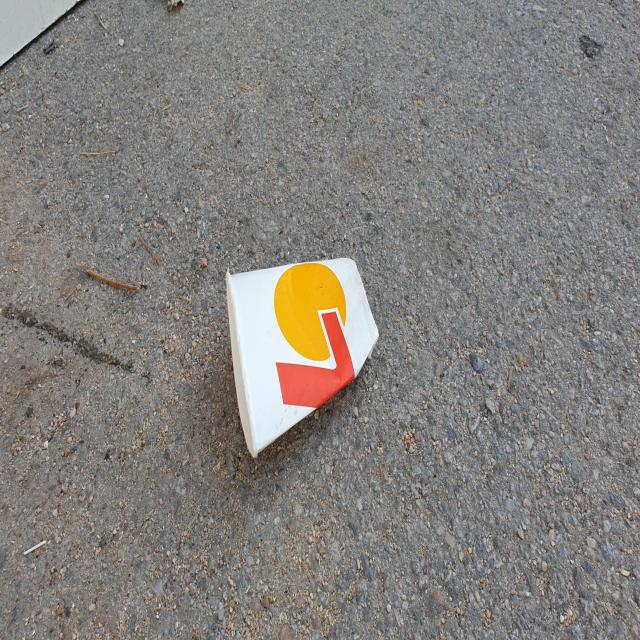paperpack: (226, 257, 379, 457)
